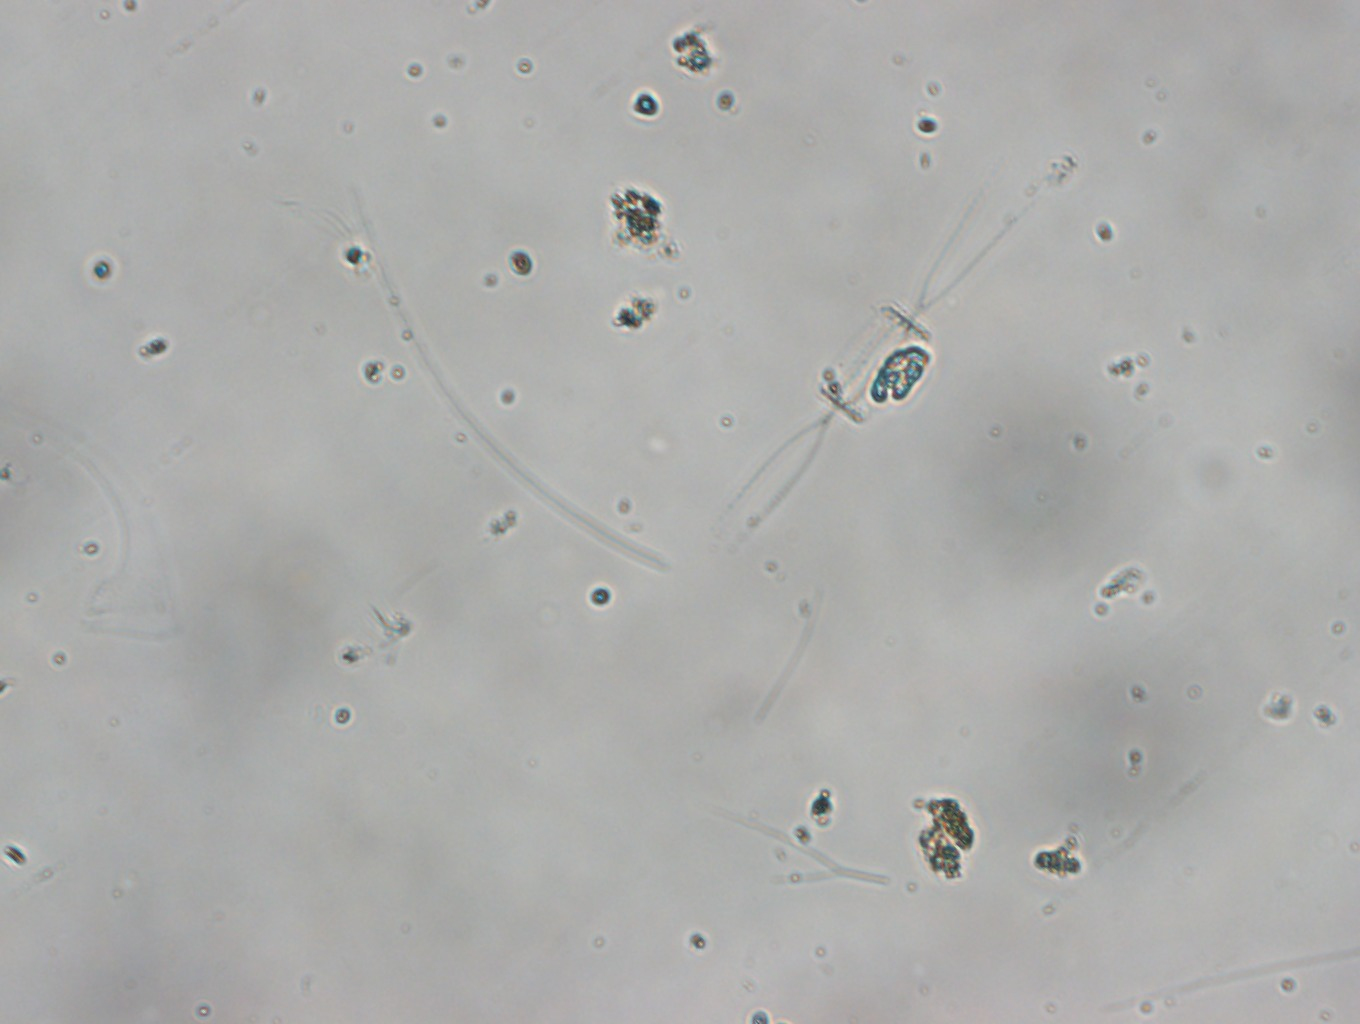chaetoceros: (750, 203, 1022, 514)
